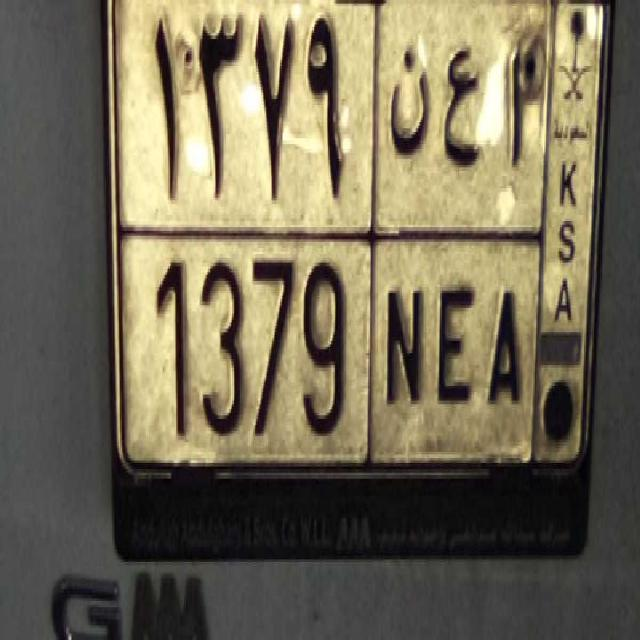license_plate: (126, 220, 529, 466)
